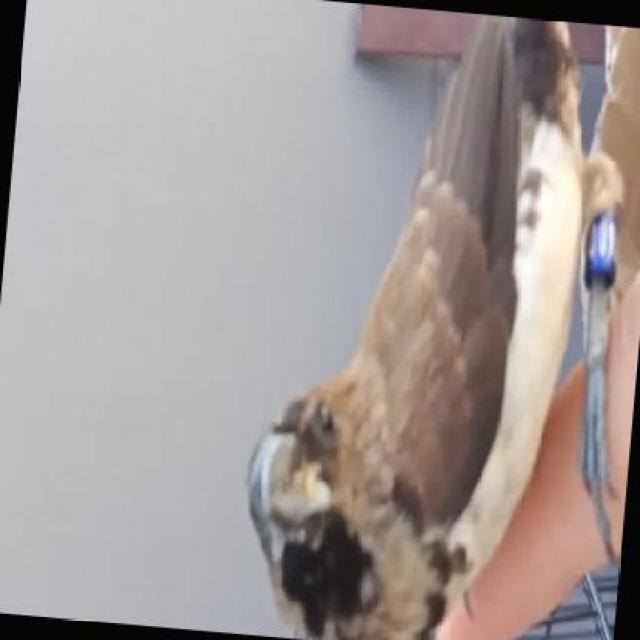Bird: (221, 6, 599, 640)
